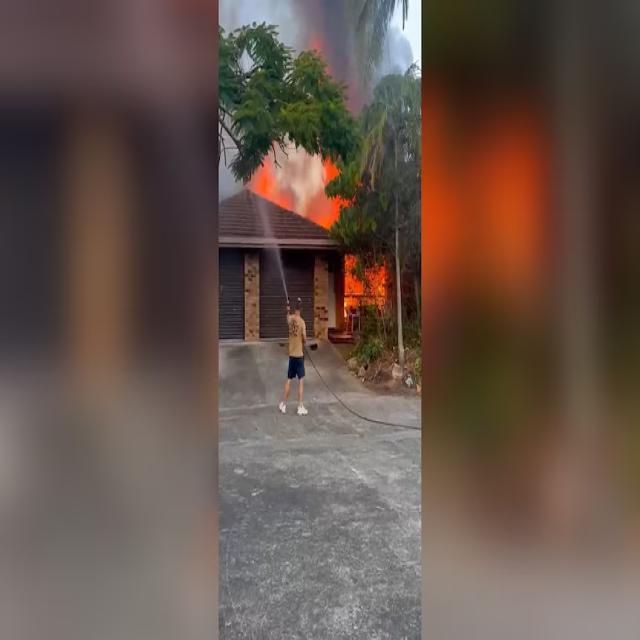Fire: (262, 160, 356, 241), (345, 254, 403, 325)
Smoke: (307, 0, 374, 94)
